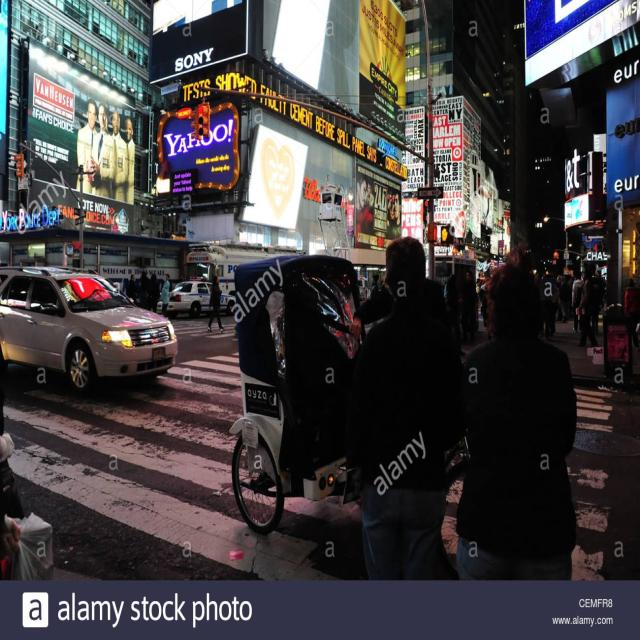body: (348, 162, 639, 364), (450, 260, 586, 639), (344, 235, 464, 583), (0, 344, 55, 586), (70, 93, 142, 204), (576, 271, 598, 348), (623, 278, 640, 362), (204, 273, 226, 334), (462, 267, 478, 342), (544, 273, 562, 338), (442, 271, 457, 328), (571, 269, 584, 334), (369, 274, 380, 328), (138, 268, 149, 314), (125, 274, 138, 308), (150, 272, 160, 314), (160, 279, 170, 315), (165, 273, 173, 292)
